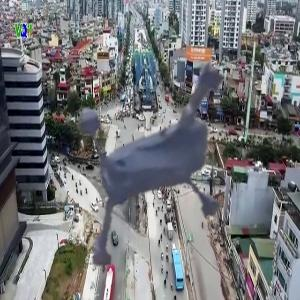drone: (34, 3, 288, 257)
